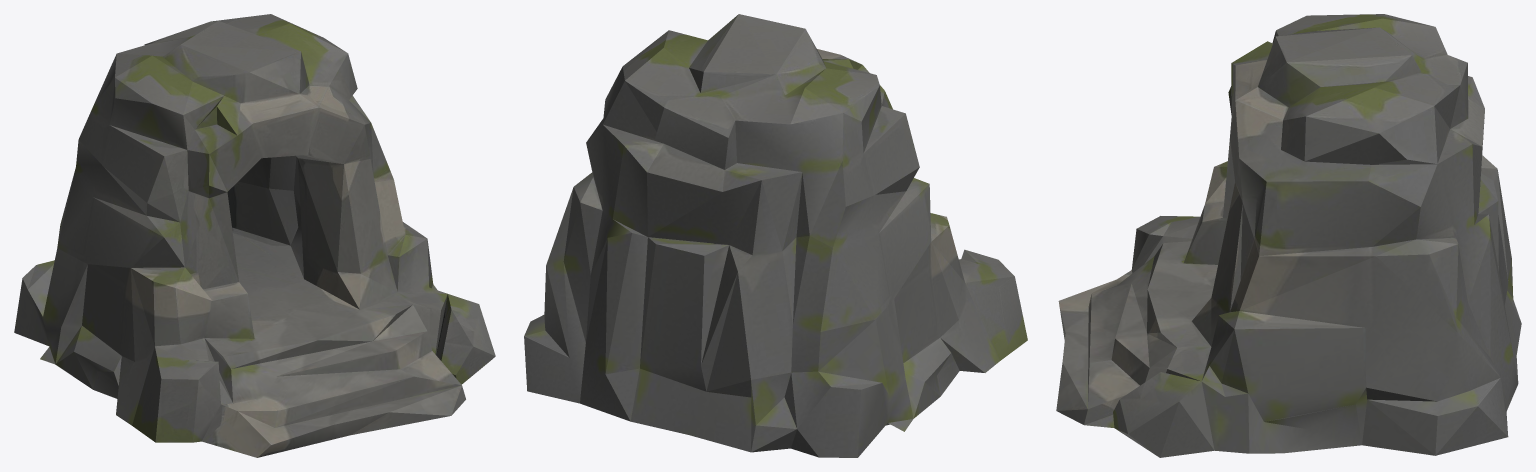
Rendered from entrance.glb.
The picture shows the model from 3 angles, left to right: view 1: azimuth 30°, elevation 25°; view 2: azimuth 150°, elevation 25°; view 3: azimuth 270°, elevation 25°; orthographic projection. The views are drawn at different scales.
Visible parts, largest first — view 1: output_unwrapped; view 2: output_unwrapped; view 3: output_unwrapped.
Boxes of the visible parts, <box> form: output_unwrapped: <box>14,14,495,457</box>; output_unwrapped: <box>524,14,1027,457</box>; output_unwrapped: <box>1056,14,1521,457</box>.
Bounding box in the file's own units: 1.74 × 1.46 × 1.89.
1 material, 1 textured.
